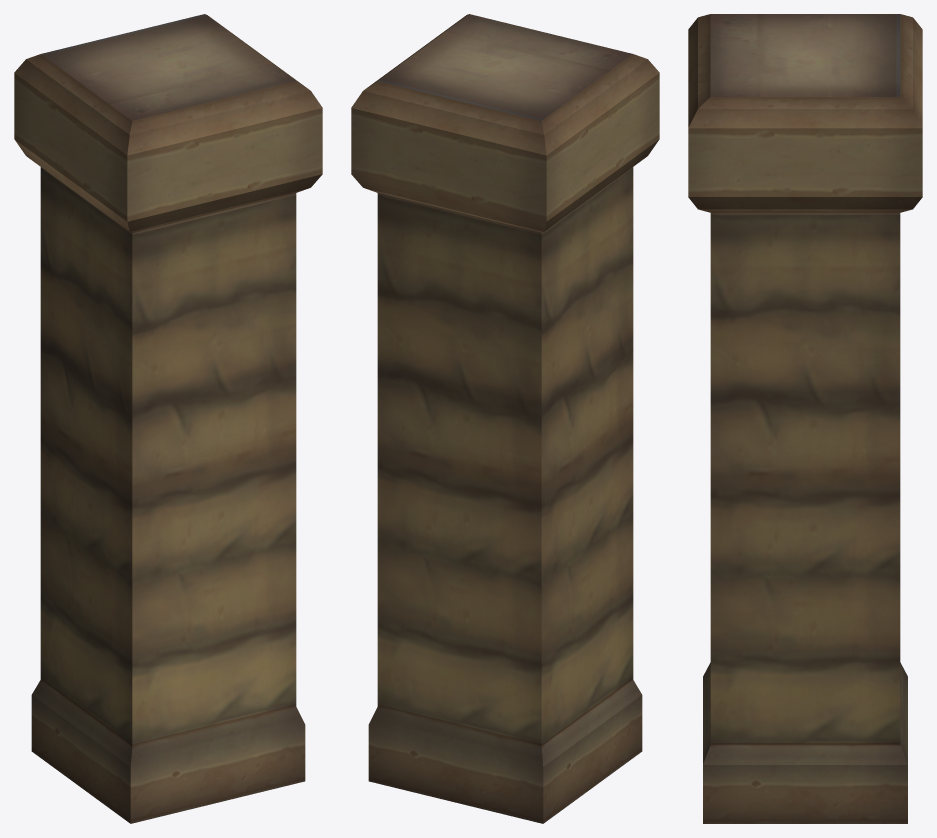
The model's file is Pillar.FBX.
3 views of the same model, side by side, from view 1: azimuth 30°, elevation 25°; view 2: azimuth 150°, elevation 25°; view 3: azimuth 270°, elevation 25° (orthographic). The views are drawn at different scales.
Visible parts, largest first — view 1: Pilaar; view 2: Pilaar; view 3: Pilaar.
Part boxes in pixels (bbox=[...]): Pilaar: bbox=[14, 14, 322, 823]; Pilaar: bbox=[351, 14, 659, 823]; Pilaar: bbox=[688, 14, 922, 823].
Size of the model in its own units: 59.66 by 204 by 59.84.
1 material, 1 textured.
